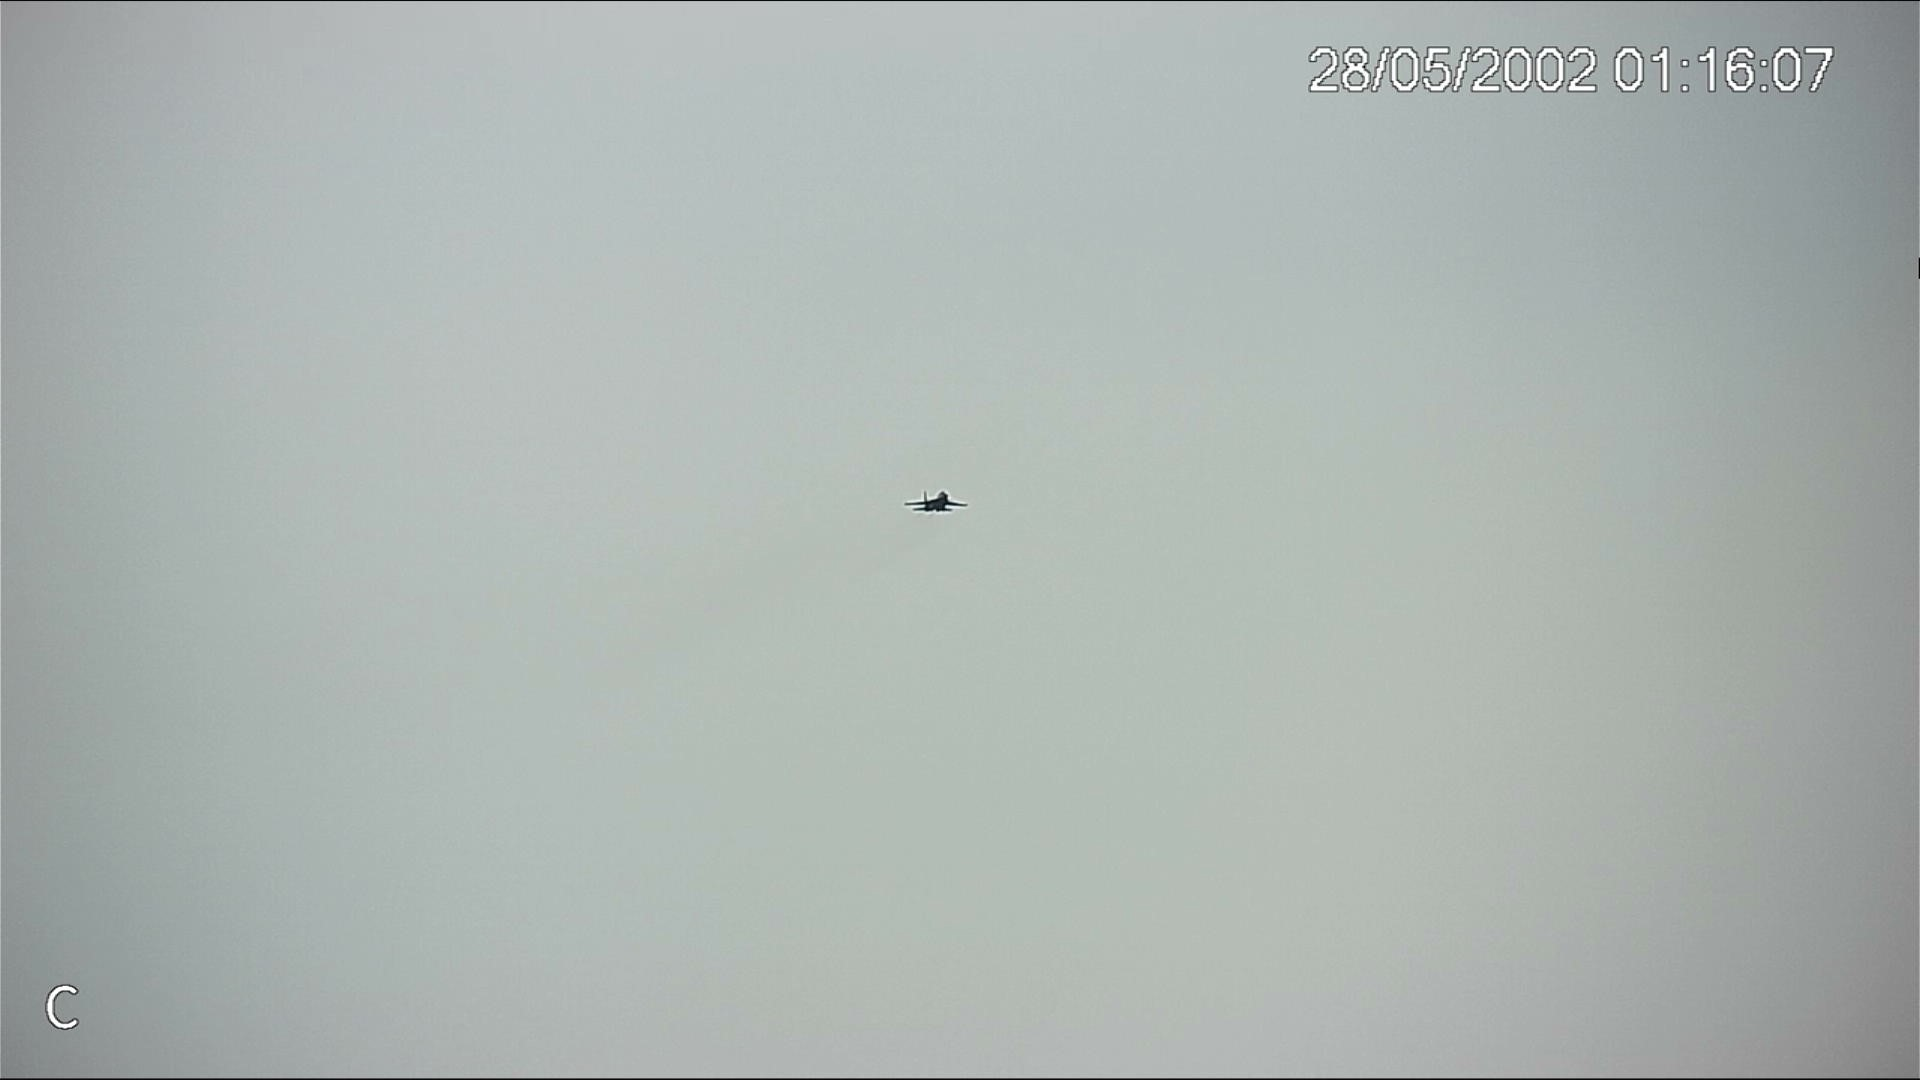SU_30: (903, 491, 971, 516)
